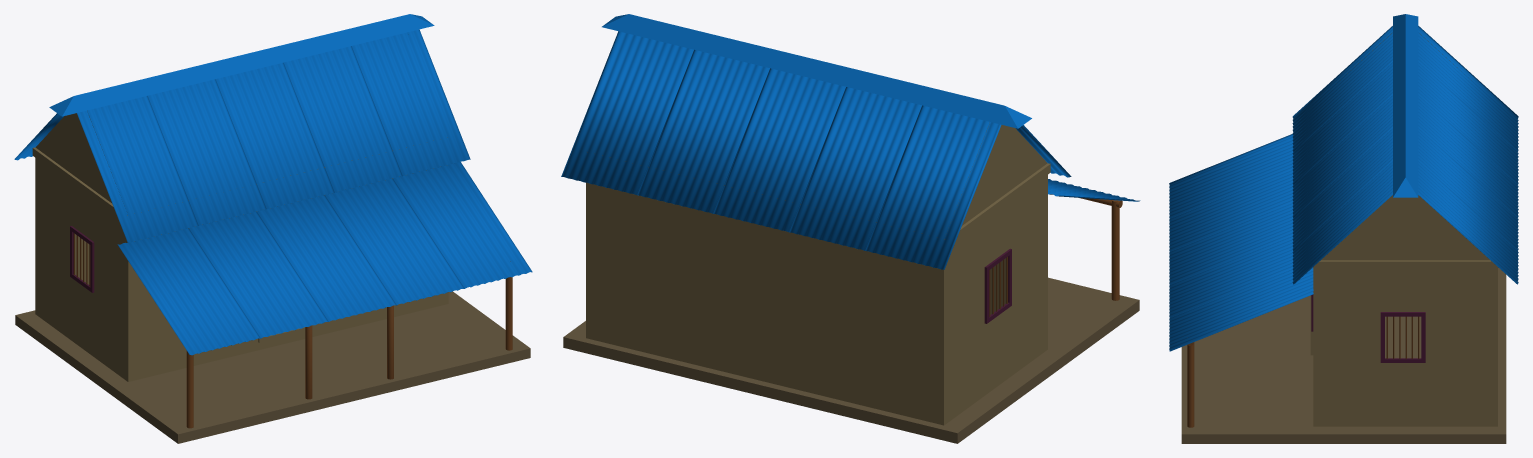
The model's file is VinaHouse.fbx.
3 renders of one model, left to right at view 1: azimuth 30°, elevation 25°; view 2: azimuth 150°, elevation 25°; view 3: azimuth 270°, elevation 25°, orthographic. The views are drawn at different scales.
Visible parts, largest first — view 1: sheet 3, sheet 2, flor, wall, top sheet, wood, window metal; view 2: wall, sheet 3, flor, top sheet, wood, sheet 2, window metal; view 3: wall, sheet 3, flor, sheet 2, top sheet, wood, window metal.
Part boxes in pixels (x1,y1,x2,y2): sheet 3: (14,29,470,242); sheet 2: (117,162,532,355); flor: (15,291,530,443); wall: (32,113,448,381); top sheet: (49,14,434,116); wood: (186,261,512,428); window metal: (73,233,90,286); wall: (586,122,1050,425); sheet 3: (561,31,1071,269); flor: (563,277,1139,443); top sheet: (602,14,1031,128); wood: (1080,198,1122,300); sheet 2: (1048,179,1140,201); window metal: (989,257,1007,316); wall: (1310,33,1497,426); sheet 3: (1292,26,1518,284); flor: (1181,267,1506,443); sheet 2: (1169,134,1313,351); top sheet: (1393,14,1418,197); wood: (1187,342,1194,427); window metal: (1386,316,1419,358).
Size of the model in its own units: 212 by 143 by 173.
